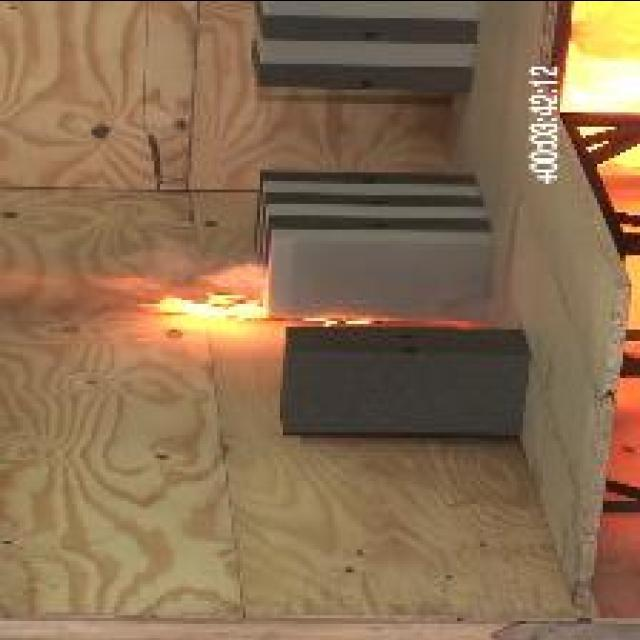Fire: (94, 262, 266, 324)
